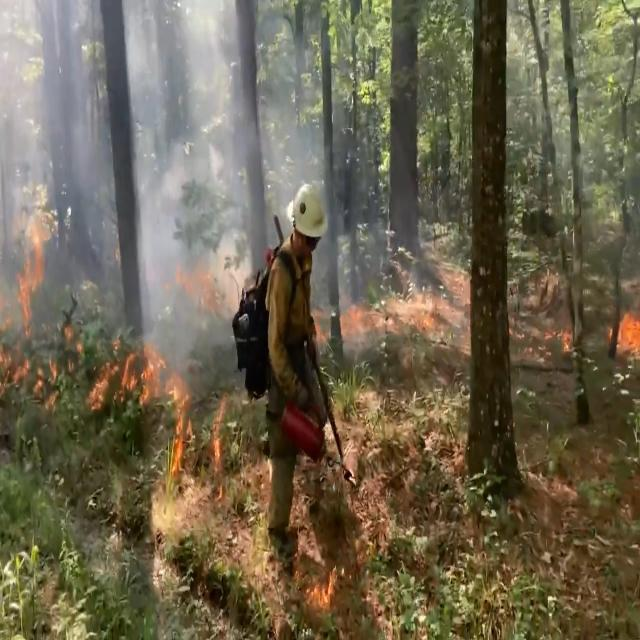Fire: (2, 208, 232, 474)
